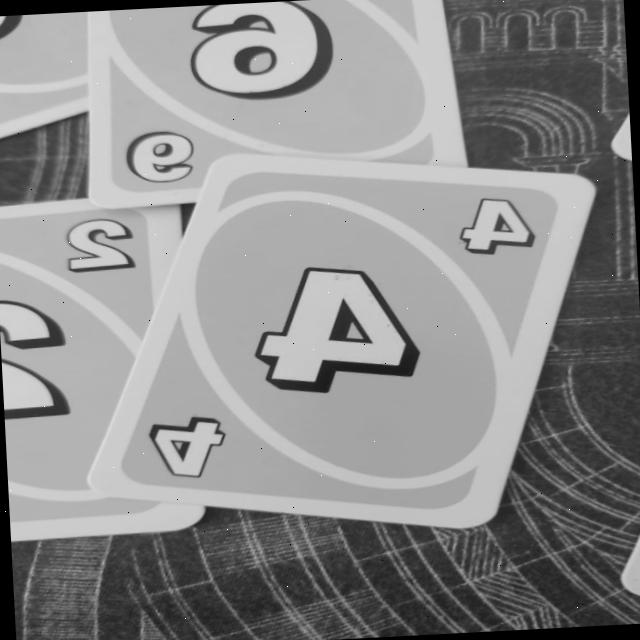card_2: (0, 197, 184, 530)
card_4: (71, 134, 616, 548)
card_6: (77, 0, 451, 202)
